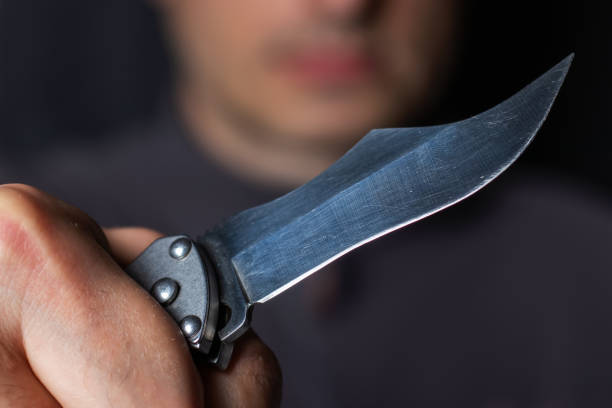knife: (128, 50, 576, 371)
